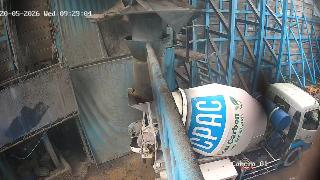cement_mixer_truck: (127, 82, 320, 180)
swing_chute: (126, 33, 172, 100)
